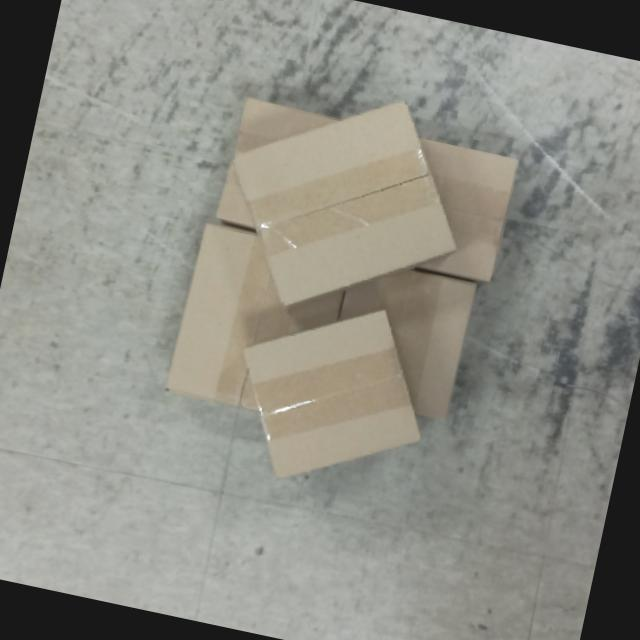box: (201, 59, 489, 346), (210, 276, 450, 509)
